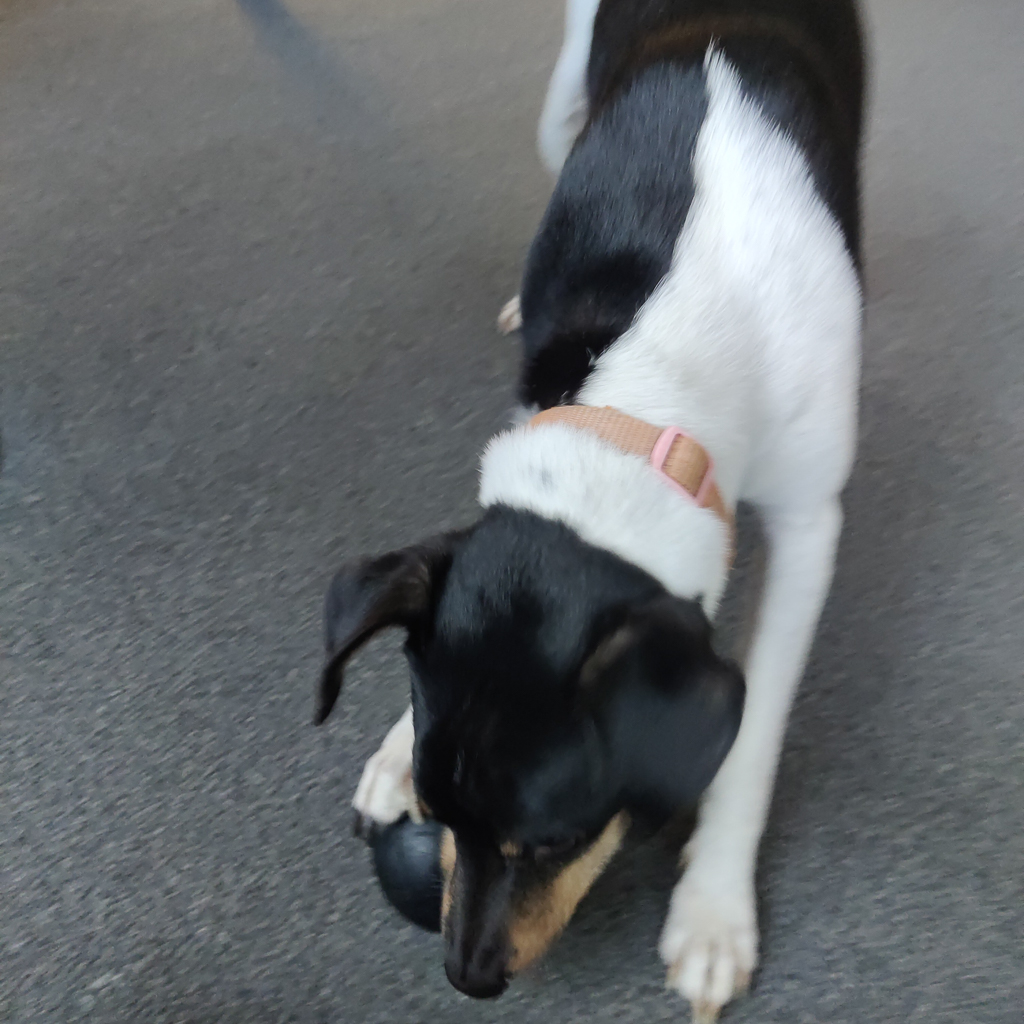Dog: (277, 0, 917, 1024)
